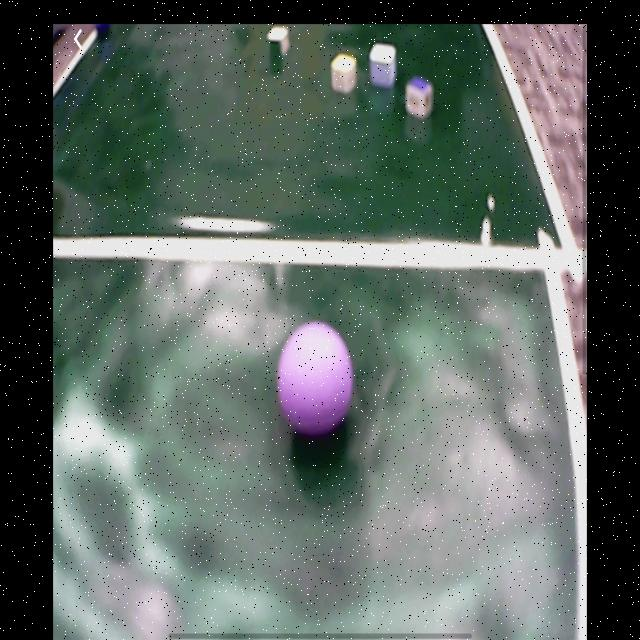ball: (275, 320, 353, 437)
